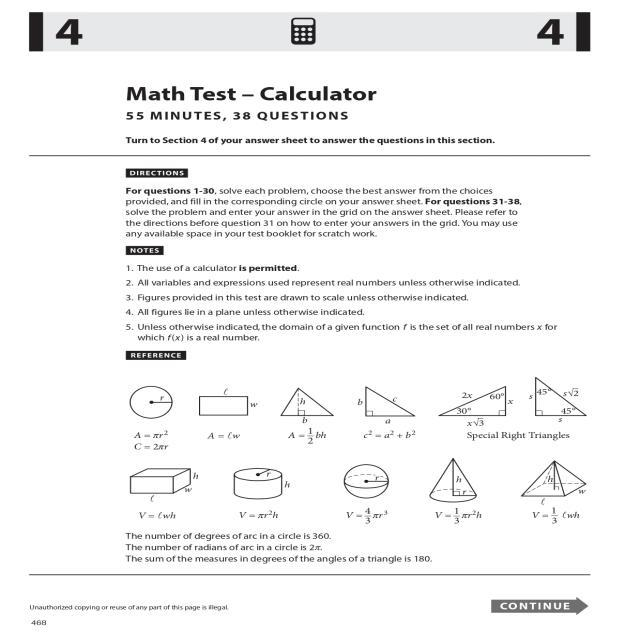Instruction: (49, 158, 591, 570)
Question_Paper_Area: (49, 158, 591, 570)
